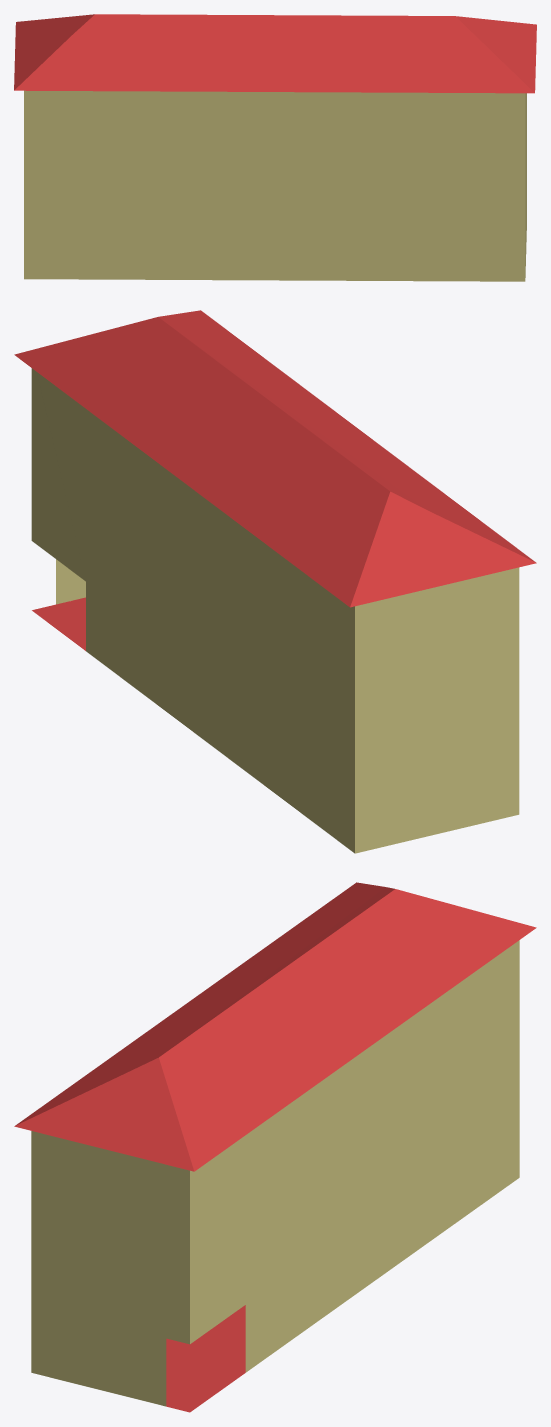
3 views of the same model, one above another, from view 1: azimuth 30°, elevation 25°; view 2: azimuth 150°, elevation 25°; view 3: azimuth 270°, elevation 25° (orthographic). The views are drawn at different scales.
Visible parts, largest first — view 1: group_5, group_3, group_4; view 2: group_5, group_3, group_6, group_4; view 3: group_5, group_3, group_6, group_4.
Part boxes in pixels (x1,y1,x2,y2): group_5: [24, 90, 526, 281]; group_3: [14, 14, 536, 93]; group_4: [15, 21, 536, 93]; group_5: [31, 368, 519, 853]; group_3: [14, 311, 536, 607]; group_6: [32, 597, 85, 650]; group_4: [196, 310, 519, 604]; group_5: [31, 940, 519, 1406]; group_3: [31, 882, 536, 1171]; group_6: [166, 1305, 245, 1412]; group_4: [14, 882, 500, 1171].
Size of the model in its own units: 40.67 by 31.07 by 19.81.
